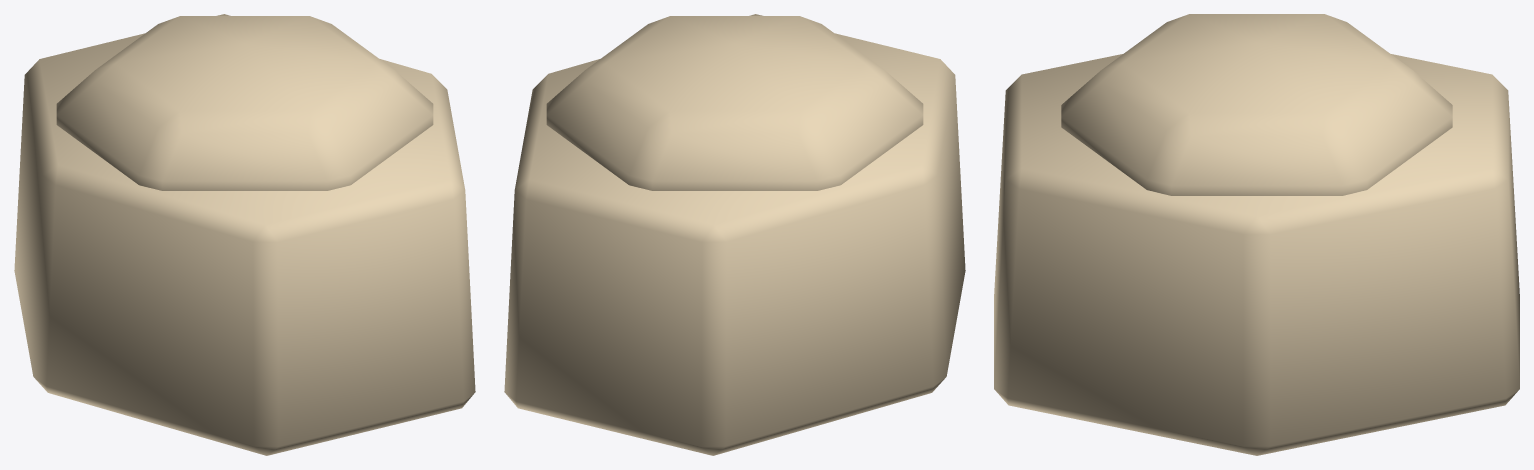
Rendered from pod_heavy_tidemark.glb.
3 renders of one model, left to right at view 1: azimuth 30°, elevation 25°; view 2: azimuth 150°, elevation 25°; view 3: azimuth 270°, elevation 25°, orthographic. The views are drawn at different scales.
Parts seen in each view (by area): view 1: pod_heavy_tidemark; view 2: pod_heavy_tidemark; view 3: pod_heavy_tidemark.
Boxes of the visible parts, <box> form: pod_heavy_tidemark: <box>14,14,475,455</box>; pod_heavy_tidemark: <box>504,14,965,455</box>; pod_heavy_tidemark: <box>994,14,1519,455</box>.
Bounding box in the file's own units: 4.86 × 3.4 × 5.18.
